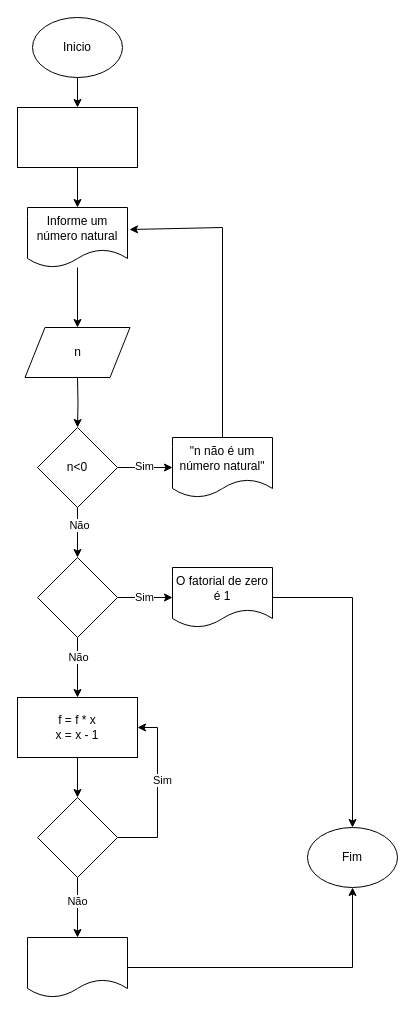
This 415x1015 diagram has some shape labels left out. Here are the shapes that lost their labels. From the top down, the box of each, then its label:
(16, 106, 138, 168): f = 1
(36, 556, 118, 638): n=0
(36, 796, 118, 878): x>1
(26, 936, 128, 998): n! = f
